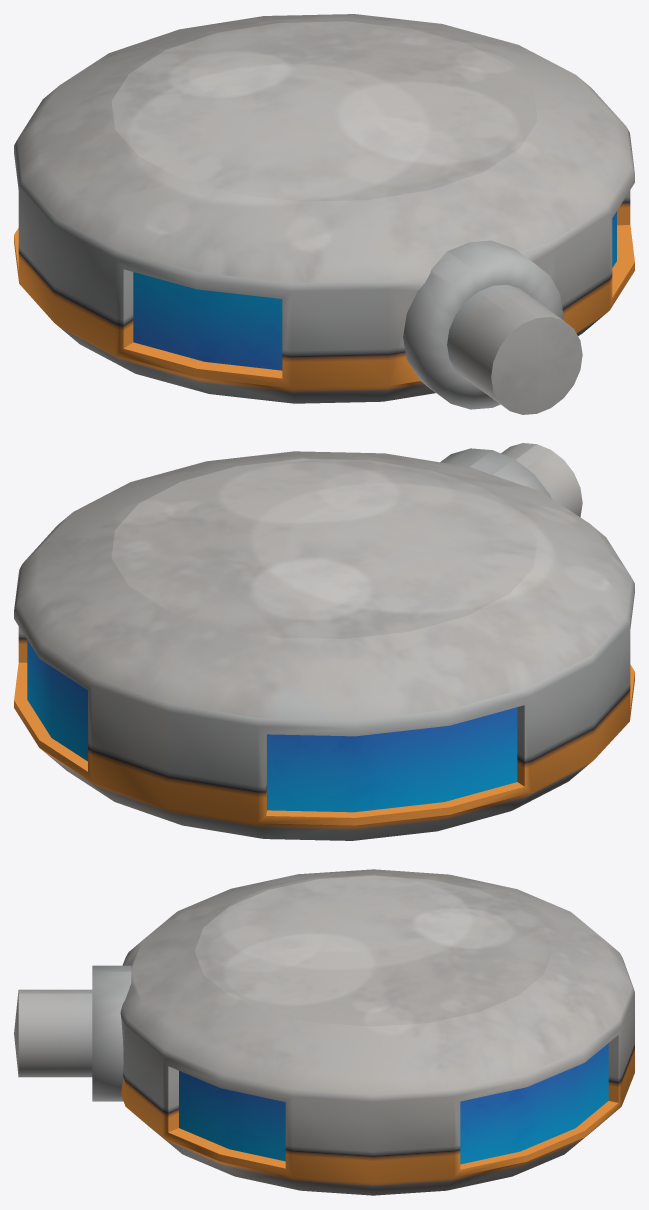
The model's file is Base_Pod_1.fbx.
3 renders of one model, top to bottom at view 1: azimuth 30°, elevation 25°; view 2: azimuth 150°, elevation 25°; view 3: azimuth 270°, elevation 25°, orthographic. The views are drawn at different scales.
Parts seen in each view (by area): view 1: Pod_1; view 2: Pod_1; view 3: Pod_1.
Boxes of the visible parts, <box> form: Pod_1: <box>14,14,634,414</box>; Pod_1: <box>14,443,634,840</box>; Pod_1: <box>14,869,634,1195</box>.
Bounding box in the file's own units: 51.99 × 17.7 × 61.94.
1 material, 1 textured.
